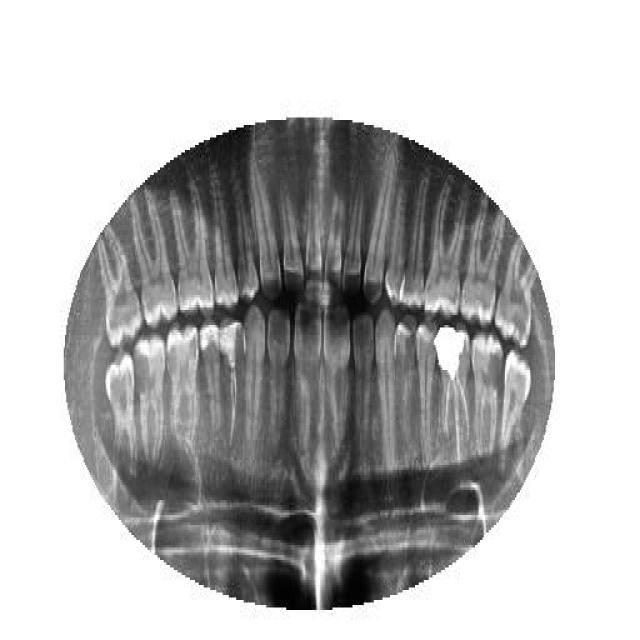Cavity: (132, 335, 168, 463), (470, 330, 504, 462)
Implant: (438, 320, 472, 468), (218, 318, 244, 450)
